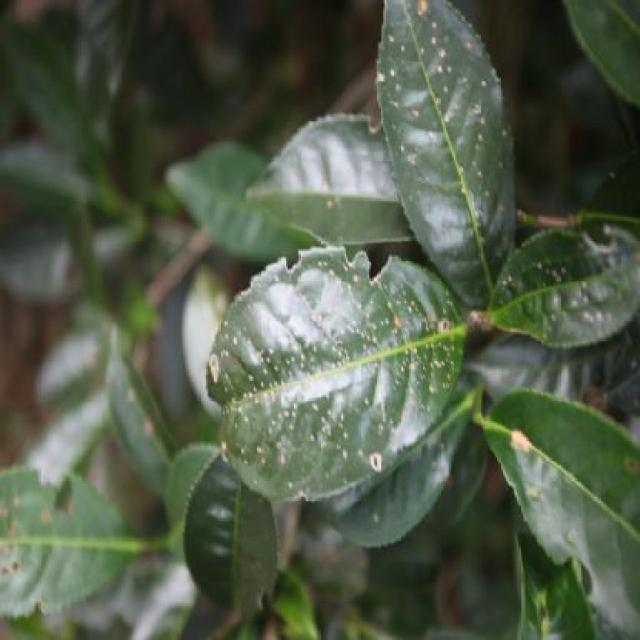Leaf rust of tea: (203, 245, 471, 489), (375, 8, 528, 303), (495, 232, 640, 330)
